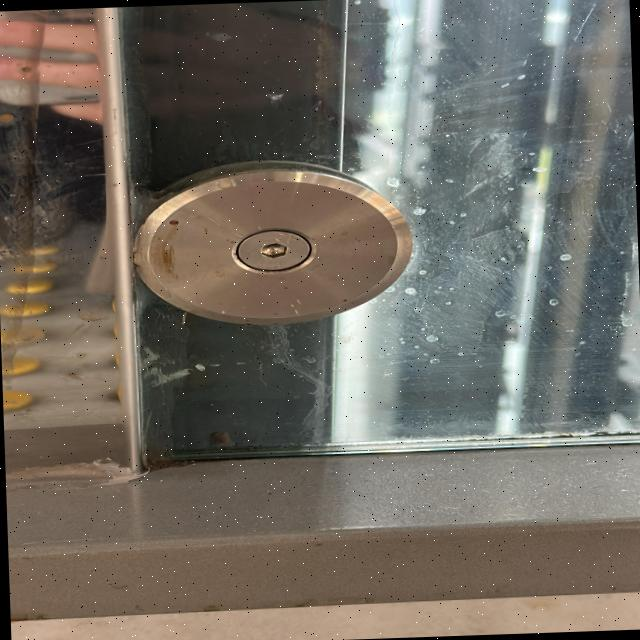Hex Socket Allen: (232, 228, 322, 278)
